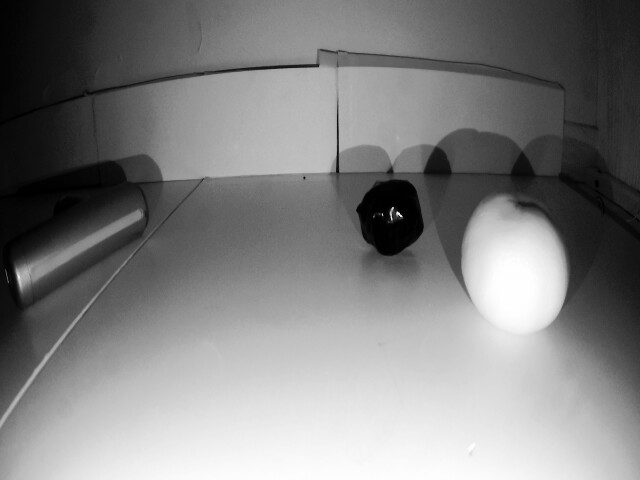black: (352, 174, 430, 257)
